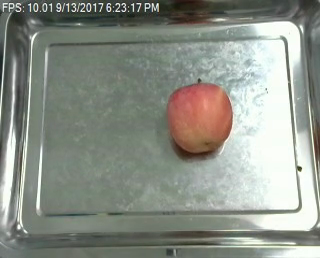Apple: (162, 80, 238, 154)
